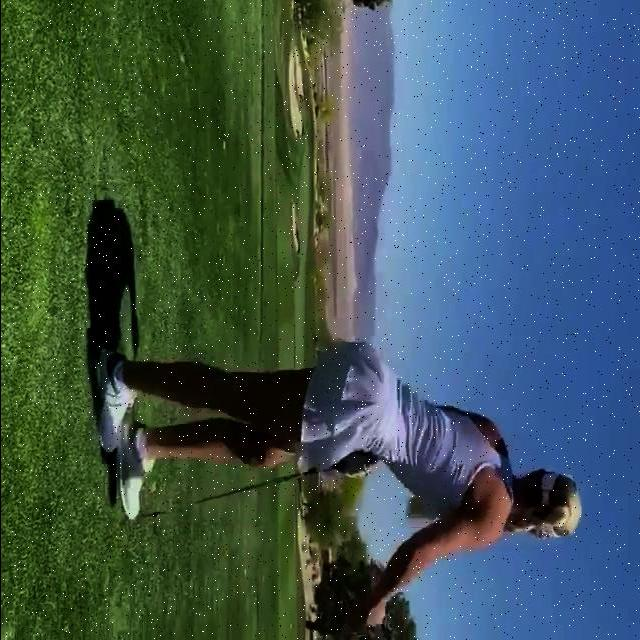ClubHandle: (136, 462, 340, 537)
